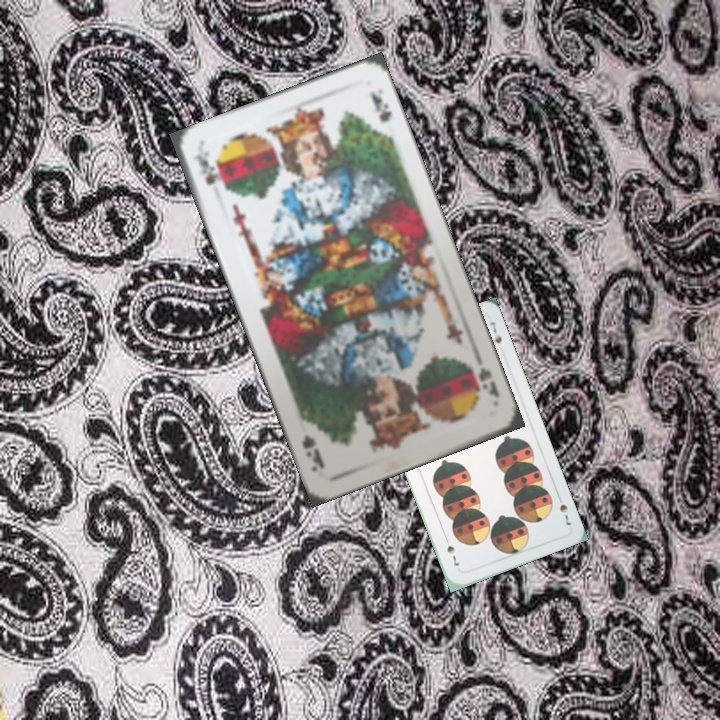S7: (553, 490, 574, 528)
SK: (189, 146, 221, 188), (474, 363, 502, 401)
